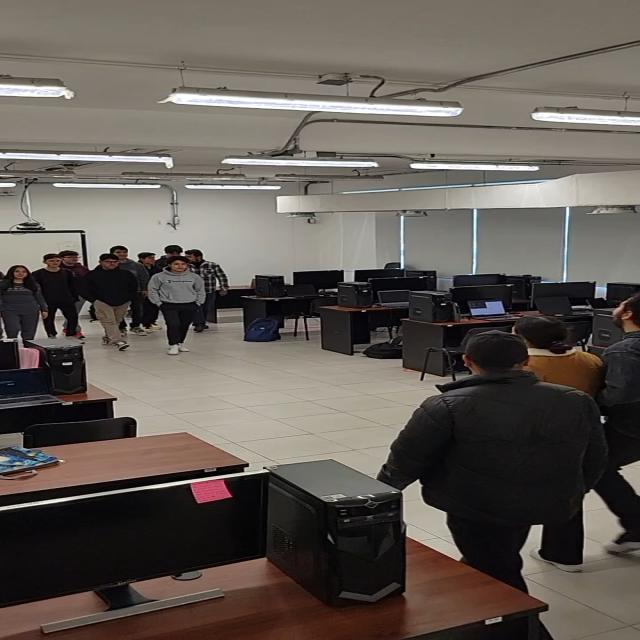Persona: (423, 329, 581, 575), (527, 297, 632, 397), (92, 254, 142, 358), (152, 259, 202, 346), (5, 264, 42, 341), (40, 257, 76, 331)
